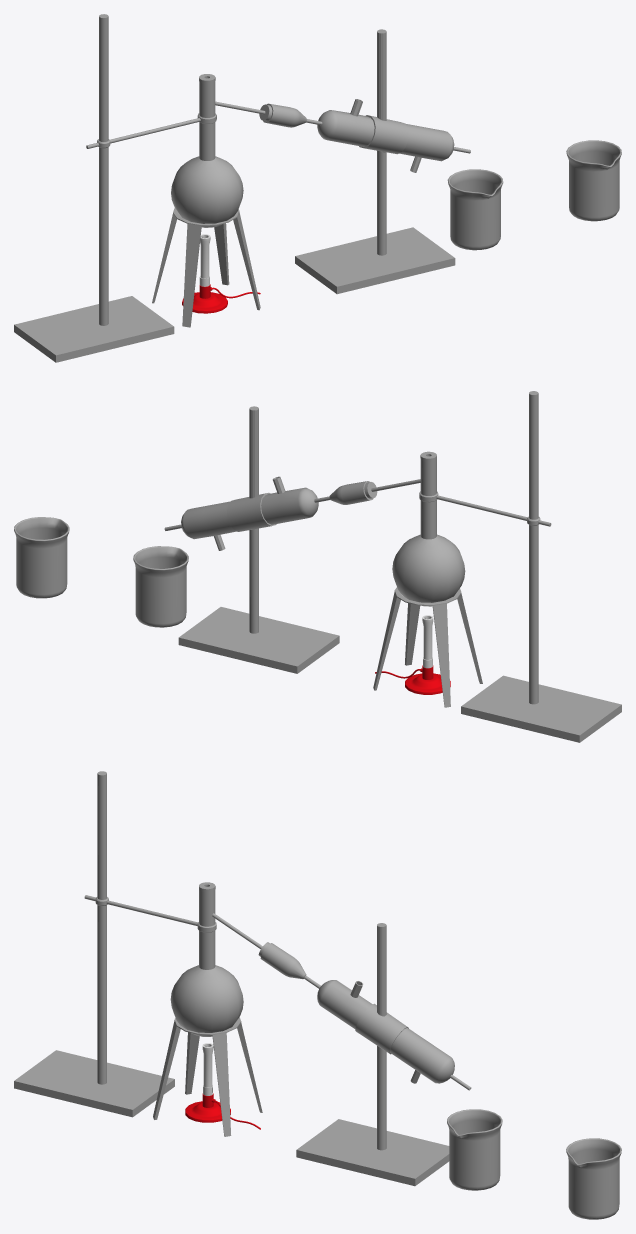
The model's file is Separation_of_two_miscible_liquids.fbx.
3 views of the same model, one above another, from view 1: azimuth 30°, elevation 25°; view 2: azimuth 150°, elevation 25°; view 3: azimuth 330°, elevation 25° (orthographic).
Visible parts, largest first — view 1: pCube5, pCube4, polySurface17, polySurface22, polySurface4, pSphere3, polySurface13, pCylinder21, pCylinder24, bunsun burner, polySurface21, polySurface19 (+1 smaller); view 2: pCube5, pCube4, polySurface17, polySurface4, polySurface22, pSphere3, polySurface13, pCylinder21, pCylinder24, bunsun burner, polySurface21, polySurface19 (+1 smaller); view 3: pCube5, pCube4, polySurface17, polySurface4, polySurface22, pSphere3, pCylinder21, polySurface13, pCylinder24, bunsun burner, polySurface21, polySurface19.
Part boxes in pixels (x1,y1,x2,y2): pCube5: (295,227,455,294); pCube4: (14,296,174,362); polySurface17: (171,82,243,227); polySurface22: (566,140,621,221); polySurface4: (447,169,503,250); pSphere3: (317,99,454,172); polySurface13: (152,207,260,327); pCylinder21: (97,14,110,325); pCylinder24: (377,29,386,255); bunsun burner: (182,234,260,313); polySurface21: (359,115,408,154); polySurface19: (263,103,306,127); pCube5: (178,607,339,673); pCube4: (461,675,621,742); polySurface17: (392,459,465,606); polySurface4: (133,546,188,627); polySurface22: (14,517,69,598); pSphere3: (181,476,318,550); polySurface13: (373,587,482,707); pCylinder21: (527,391,540,704); pCylinder24: (249,406,258,633); bunsun burner: (375,615,450,694); polySurface21: (227,492,276,531); polySurface19: (329,481,373,504); pCube5: (296,1119,449,1186); pCube4: (14,1050,174,1117); polySurface17: (170,890,243,1036); polySurface4: (447,1109,502,1190); polySurface22: (566,1138,621,1219); pSphere3: (317,980,454,1083); pCylinder21: (95,771,108,1084); polySurface13: (153,1017,262,1136); pCylinder24: (377,923,386,1150); bunsun burner: (185,1043,260,1129); polySurface21: (355,1003,408,1054); polySurface19: (260,943,306,979).
Size of the model in its own units: 153 by 79.89 by 19.18.
